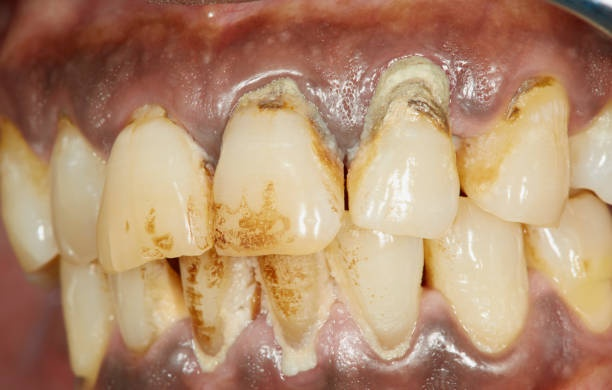Gingivitis: (303, 18, 382, 121), (430, 21, 513, 109), (163, 33, 234, 129), (71, 45, 133, 138), (533, 293, 596, 380), (9, 51, 57, 147), (102, 346, 206, 389), (326, 309, 377, 390), (417, 322, 469, 387)
